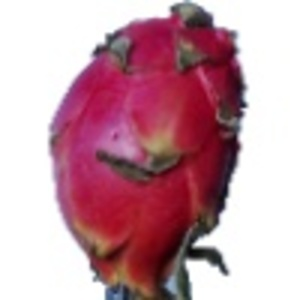pitaia: (49, 1, 249, 300)
